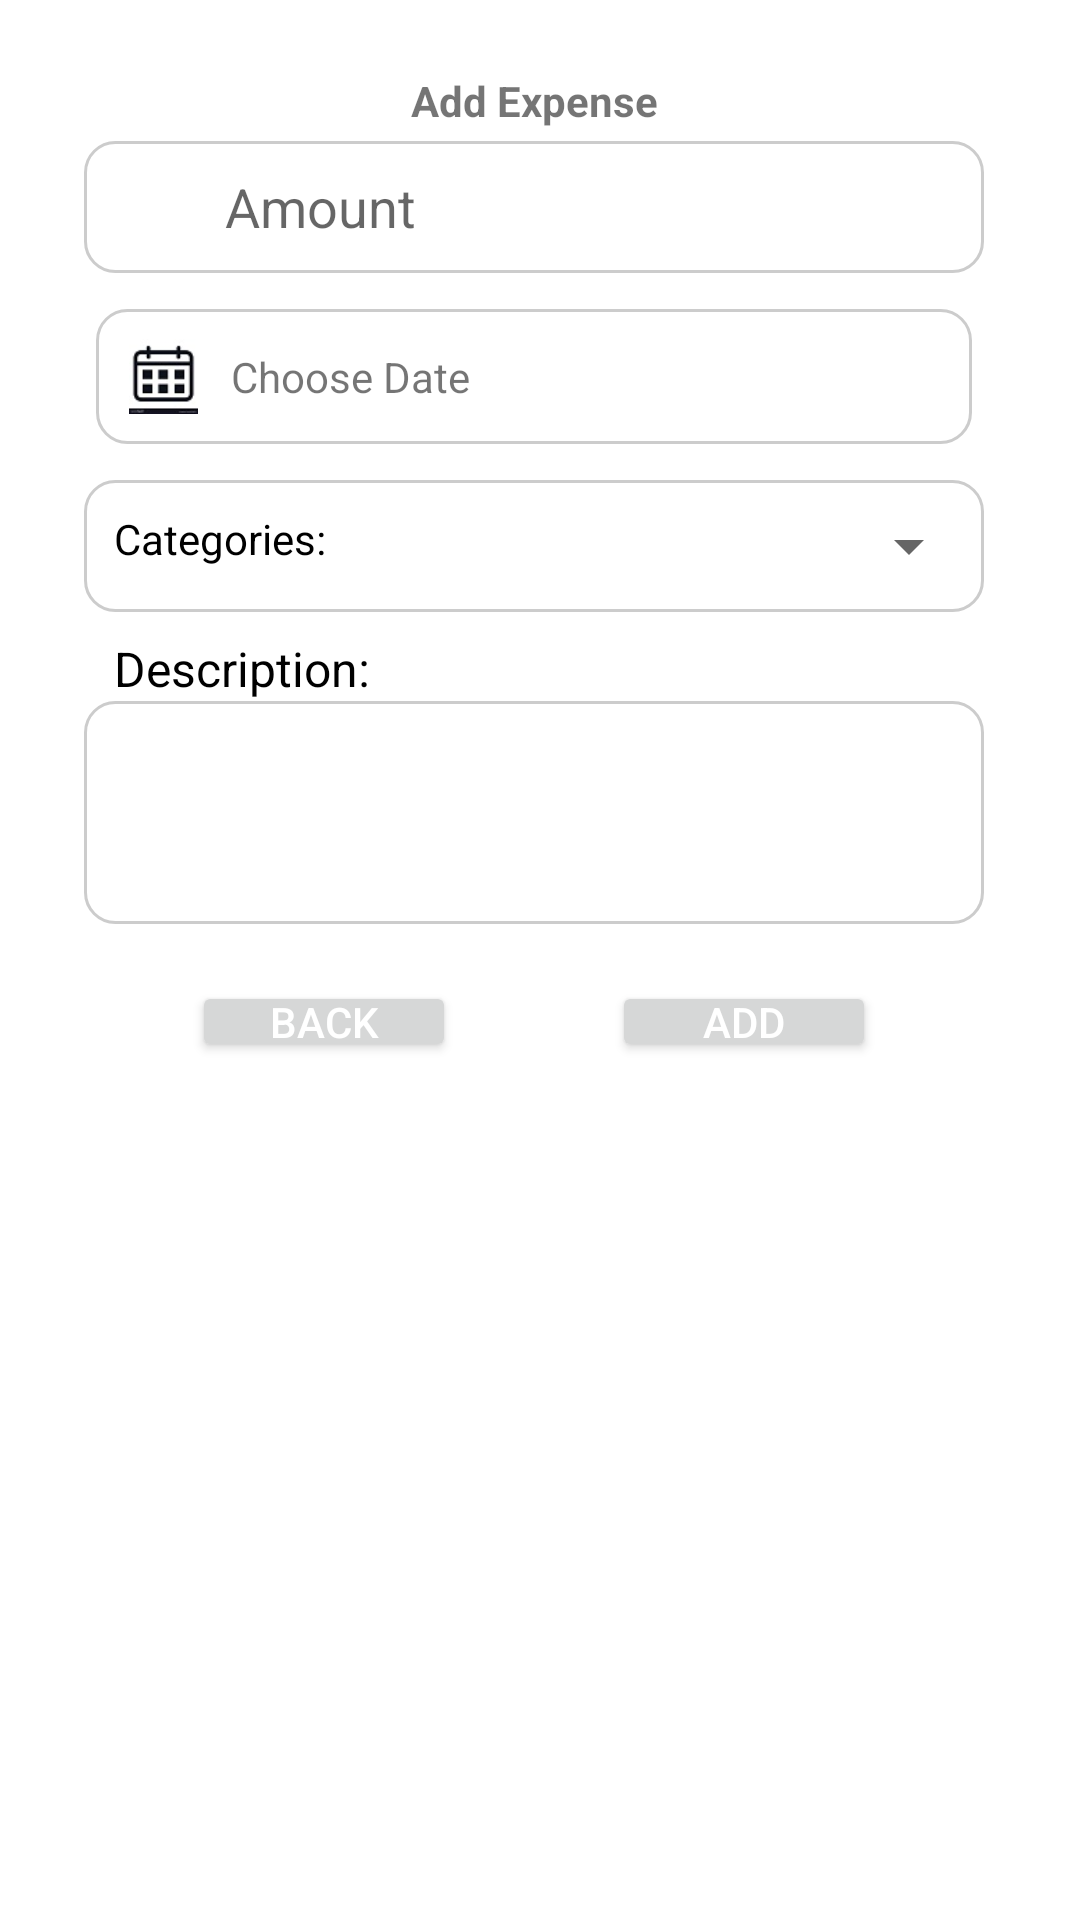

Icons on this 1080x1920 Android screen, each with the point to tap as [x,y]:
calender: [163,379]
